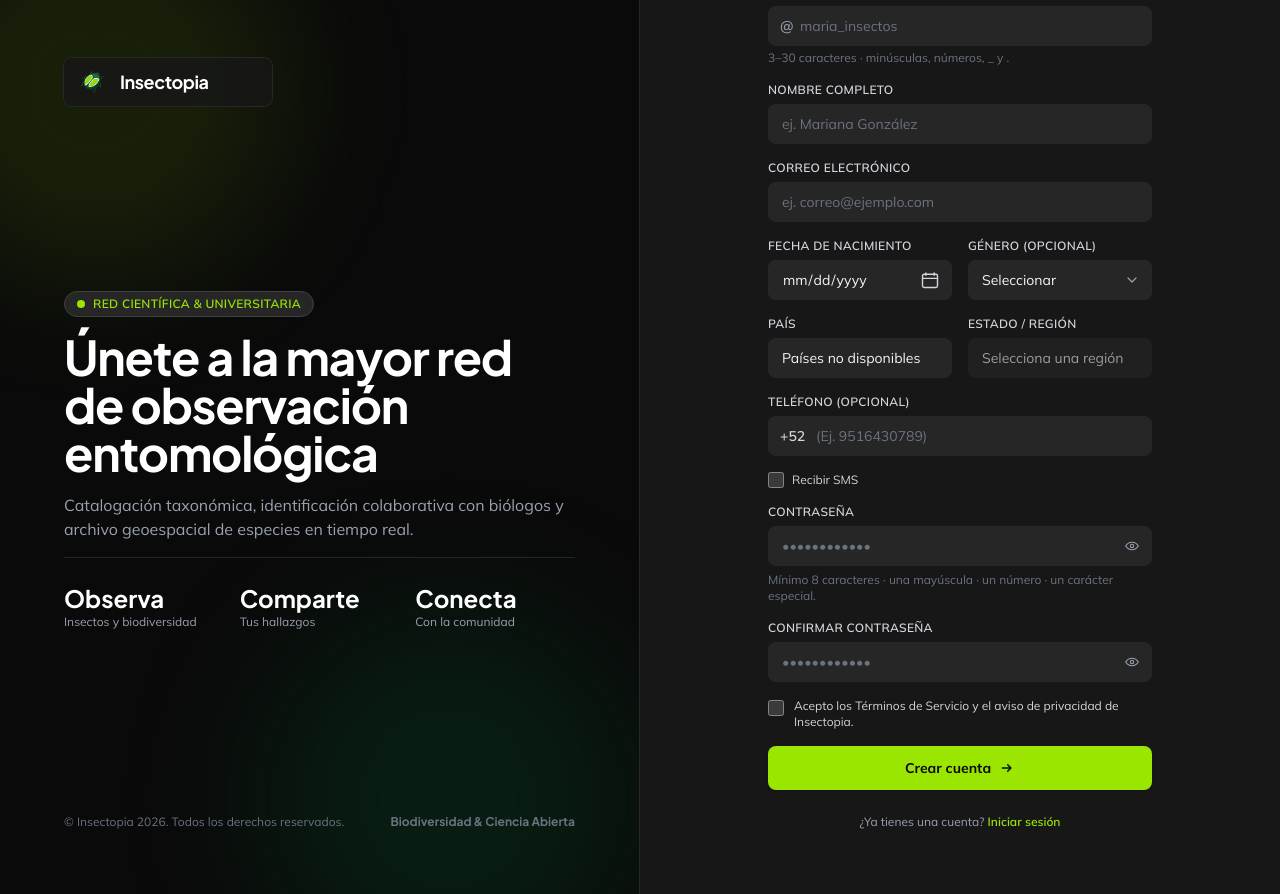
Scenario: pantalla de registro › sin backend no ofrece países inventados ni simula un registro
This screenshot has width=1280, height=894.
(page scrolled)
Expected: the dropdown labelled "País" shows "Países no disponibles", left=768, top=338, right=952, bottom=378
Expected: the dropdown labelled "Estado / Región" is disabled, left=968, top=338, right=1152, bottom=378
Click the button "Crear cuenta" at (960, 768), box left=768, top=746, right=1152, bottom=790
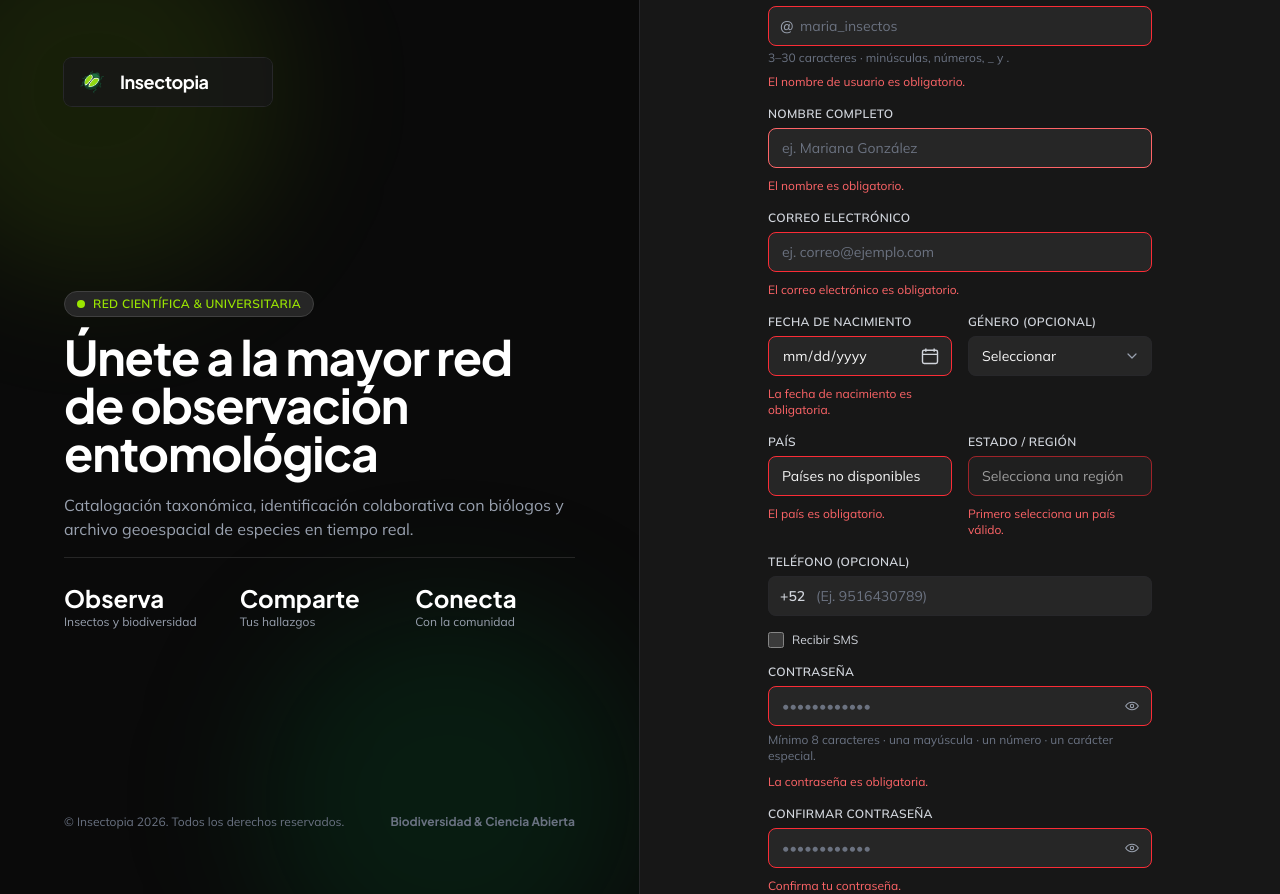
Result: the text "El país es obligatorio." is shown at left=768, top=506, right=885, bottom=521
